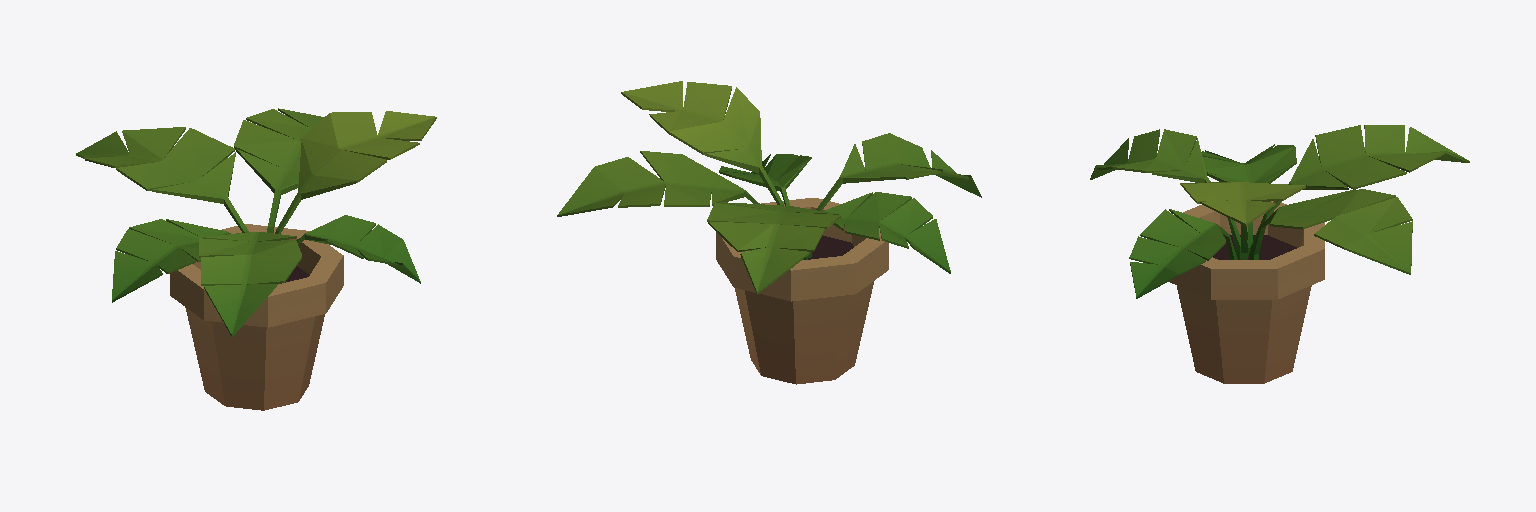
3 renders of one model, left to right at view 1: azimuth 30°, elevation 25°; view 2: azimuth 150°, elevation 25°; view 3: azimuth 270°, elevation 25°, orthographic.
Visible parts, largest first — view 1: Bush_03_Cube.008, Cylinder; view 2: Bush_03_Cube.008, Cylinder; view 3: Bush_03_Cube.008, Cylinder.
Boxes of the visible parts, box(x1,y1,x2,y2) form: Bush_03_Cube.008: box(76, 108, 436, 336); Cylinder: box(170, 224, 343, 410); Bush_03_Cube.008: box(557, 81, 981, 294); Cylinder: box(716, 198, 888, 384); Bush_03_Cube.008: box(1090, 125, 1469, 298); Cylinder: box(1169, 201, 1324, 383).
Size of the model in its own units: 1.65 by 1.11 by 1.66.
Materials: 1 (1 with a texture image).